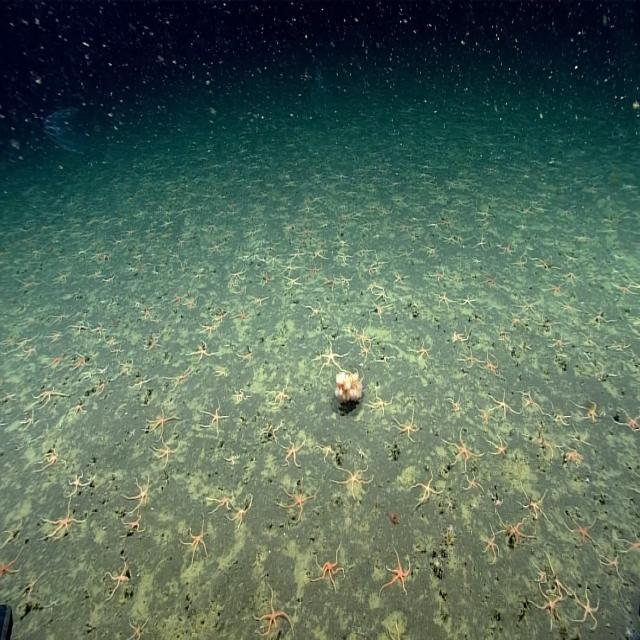brittle-stars: (256, 590, 292, 636), (44, 500, 84, 541), (312, 546, 344, 588), (383, 550, 411, 594), (7, 571, 44, 604), (547, 555, 576, 597), (531, 586, 562, 624), (446, 432, 478, 468), (573, 584, 599, 628), (282, 481, 312, 519), (335, 466, 370, 498), (564, 513, 596, 547), (499, 515, 533, 546), (182, 521, 208, 561), (413, 470, 440, 507), (105, 560, 131, 598), (519, 485, 547, 519), (202, 401, 228, 436), (146, 407, 174, 437), (318, 341, 345, 372), (0, 548, 23, 584), (229, 498, 254, 530), (371, 619, 408, 640), (128, 476, 152, 508), (0, 335, 38, 355), (488, 390, 514, 419), (280, 436, 304, 467), (153, 440, 179, 468), (165, 366, 193, 392), (34, 383, 64, 407), (616, 406, 640, 436), (396, 412, 420, 441), (126, 614, 152, 640), (38, 446, 62, 474), (586, 360, 619, 380), (577, 399, 602, 425), (370, 389, 394, 415), (482, 528, 501, 560), (122, 512, 146, 536), (208, 488, 232, 512), (270, 379, 292, 405), (549, 404, 571, 430), (67, 470, 88, 497), (602, 552, 622, 580), (623, 528, 640, 560), (533, 314, 558, 335), (487, 436, 509, 459), (256, 423, 283, 441), (586, 308, 609, 329), (191, 344, 216, 363), (522, 390, 541, 415), (517, 297, 540, 317), (460, 348, 480, 370), (569, 427, 591, 447), (475, 404, 497, 424), (414, 339, 433, 361), (627, 462, 640, 494), (614, 280, 637, 298), (564, 444, 581, 468), (70, 351, 90, 371), (484, 353, 501, 376), (533, 258, 556, 275), (144, 332, 162, 353), (46, 352, 67, 370), (558, 300, 580, 317), (368, 300, 388, 318), (19, 343, 39, 361), (304, 300, 324, 318), (544, 279, 565, 296), (129, 374, 150, 391), (16, 314, 41, 328), (464, 474, 482, 493), (436, 290, 454, 309), (353, 327, 371, 346), (552, 333, 570, 352), (52, 309, 72, 326), (21, 411, 38, 431), (92, 373, 108, 394), (17, 275, 38, 291), (316, 442, 334, 460), (70, 400, 86, 420), (509, 311, 525, 331), (200, 320, 218, 337), (498, 240, 515, 258), (376, 350, 394, 367), (336, 249, 353, 266), (452, 327, 469, 344), (428, 266, 444, 284), (230, 266, 248, 282), (252, 292, 270, 308), (533, 564, 546, 586), (69, 323, 90, 336), (459, 292, 476, 308), (483, 273, 499, 290), (375, 286, 391, 303), (580, 332, 597, 348), (392, 269, 407, 287), (235, 307, 250, 325), (284, 275, 302, 290), (449, 270, 464, 288), (117, 358, 132, 376), (609, 340, 631, 352), (266, 251, 282, 267), (322, 274, 338, 290), (358, 344, 373, 361), (475, 234, 489, 252), (234, 386, 248, 404), (282, 262, 298, 277), (339, 272, 354, 288), (448, 397, 462, 414), (44, 330, 61, 344), (516, 339, 534, 352), (93, 322, 108, 337), (101, 272, 116, 287), (261, 271, 275, 287), (214, 308, 228, 324), (514, 258, 528, 274), (238, 348, 252, 364), (223, 451, 240, 464), (358, 242, 372, 257), (210, 240, 223, 256), (309, 264, 322, 280), (367, 282, 384, 294), (446, 494, 456, 514), (290, 248, 304, 262), (312, 248, 326, 262), (184, 295, 197, 310), (170, 292, 183, 306), (497, 329, 511, 342), (213, 368, 229, 379), (53, 272, 69, 283), (107, 335, 118, 349), (112, 344, 123, 358), (0, 393, 17, 402), (109, 631, 124, 640), (472, 255, 482, 267), (425, 245, 435, 257), (0, 418, 8, 429)
